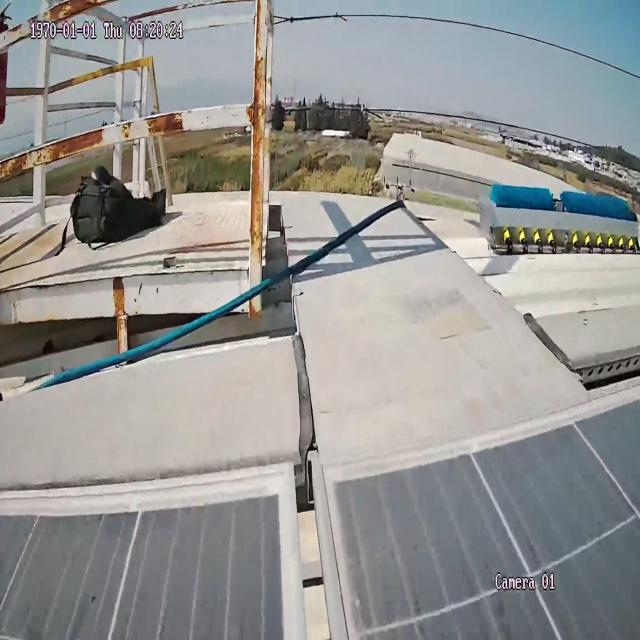interior panel: (260, 475, 394, 640)
